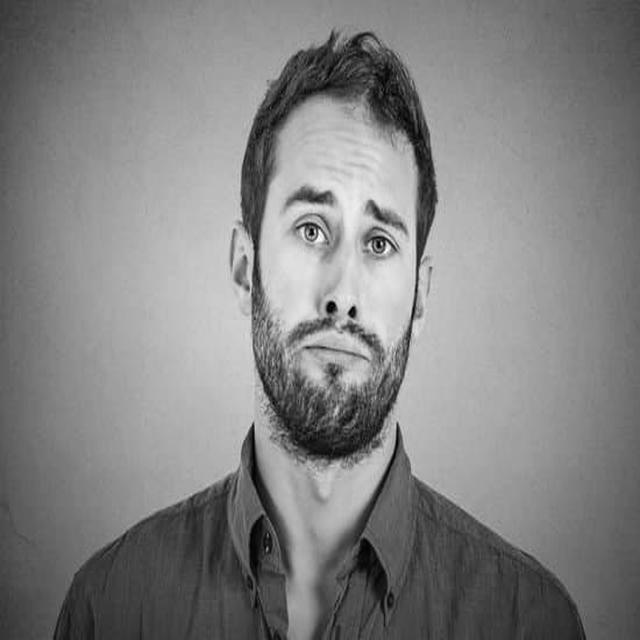Sadness: (278, 105, 410, 429)
